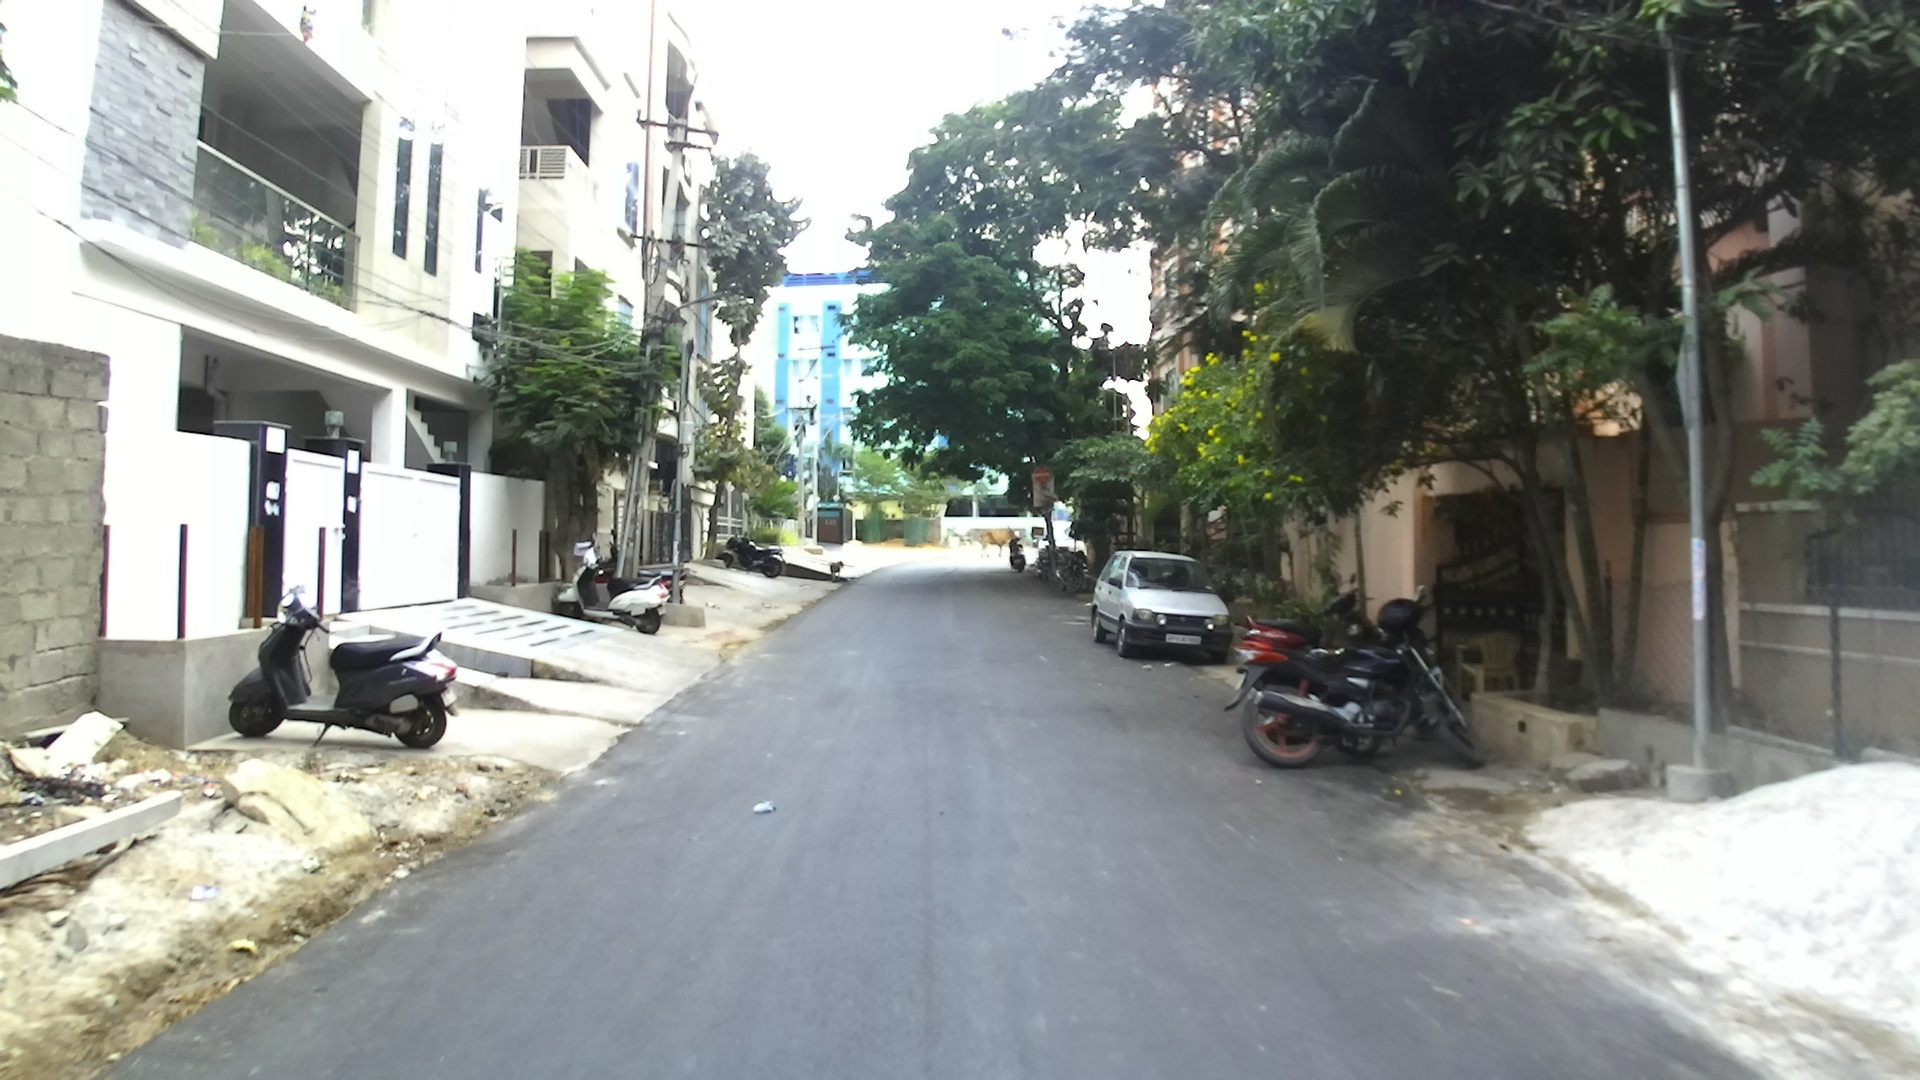vehicle: (1232, 599, 1476, 766), (223, 597, 462, 752), (1091, 551, 1229, 659)
